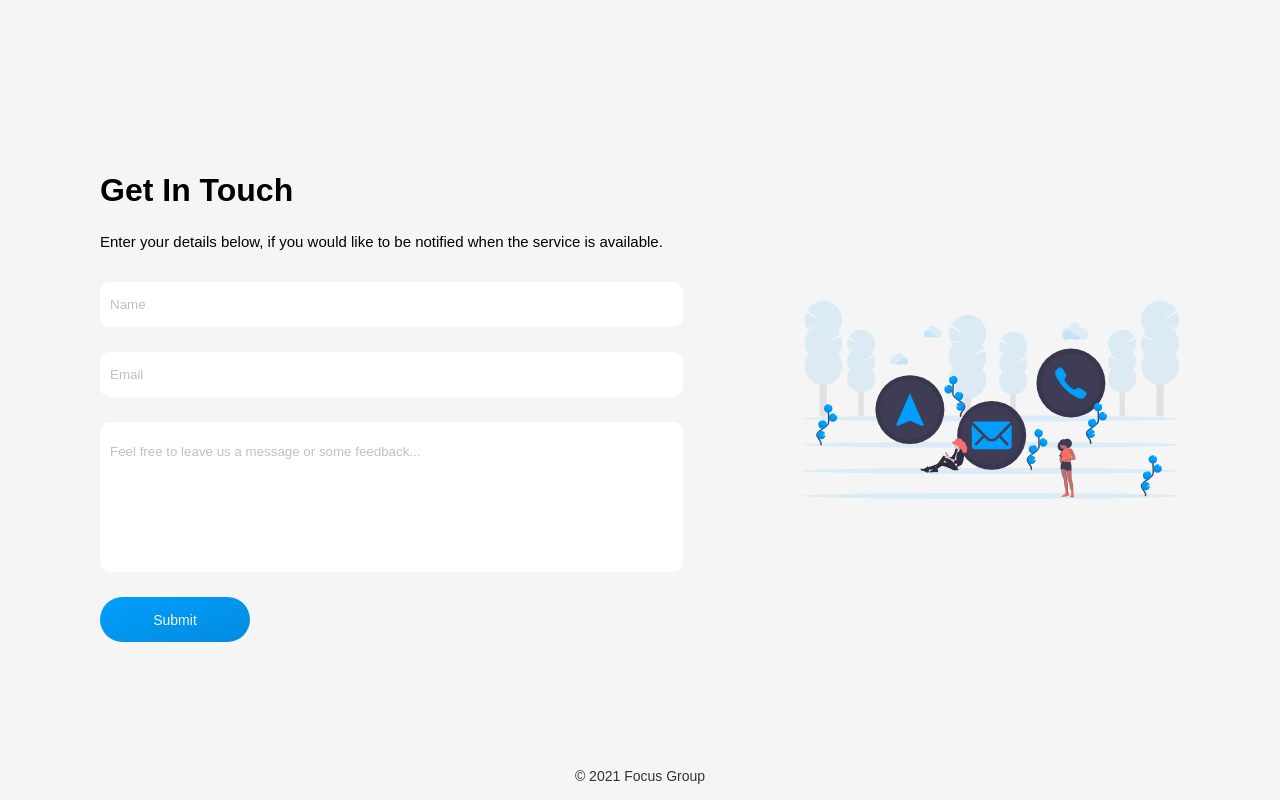
Test: should display error when user types and clears name field
Type "Typing something..." into the field with placeholder "Name" at [392, 304], box [100, 282, 683, 327]
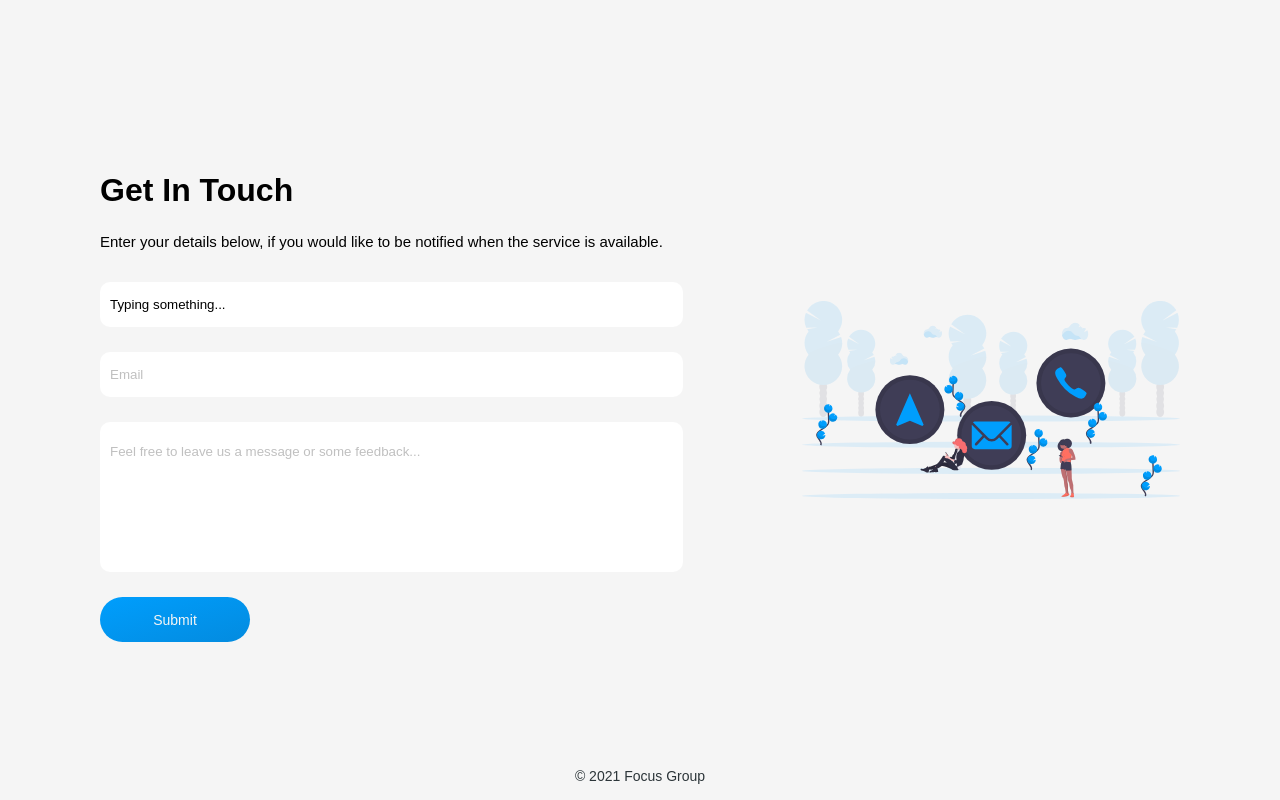
Clear the field with placeholder "Name" at [392, 304], box [100, 282, 683, 327]
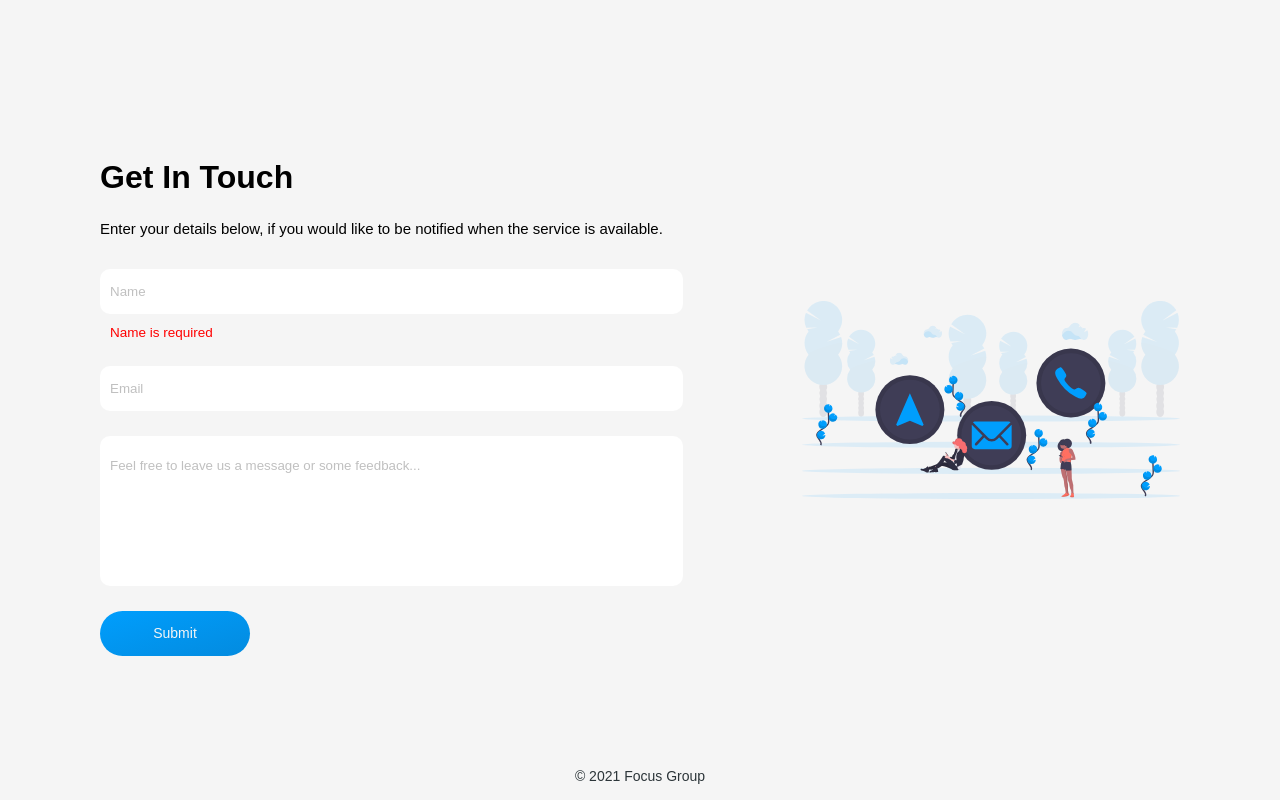
Expected: the text "Name is required" is shown, [110, 324, 213, 340]
